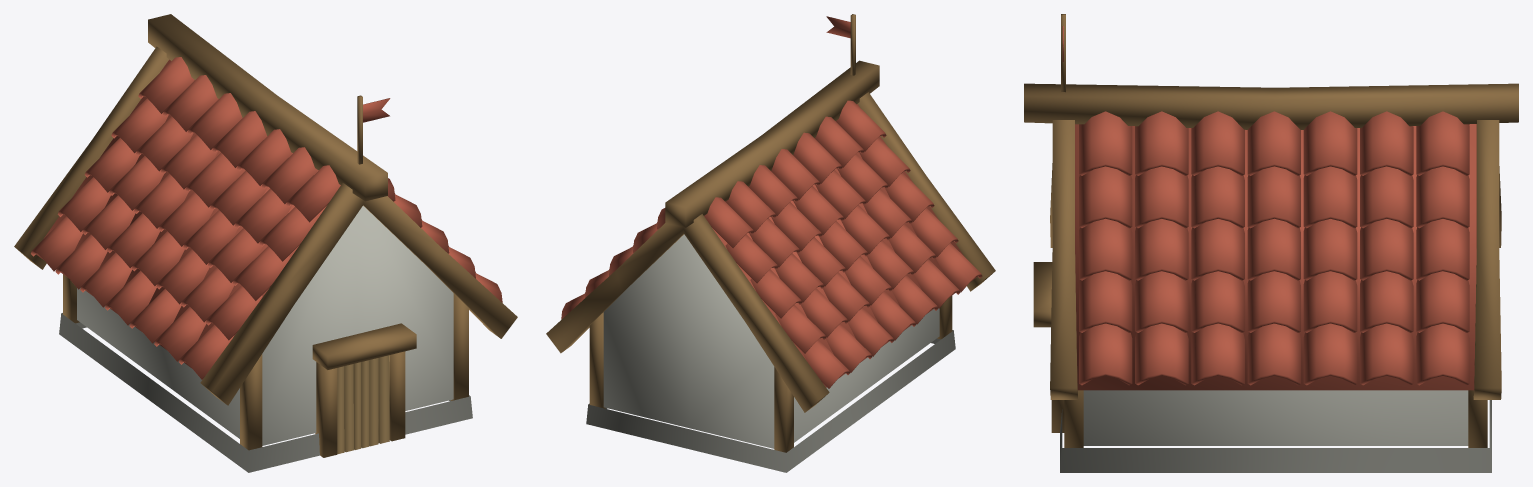
Rendered from casa_roja.glb.
3 renders of one model, left to right at view 1: azimuth 30°, elevation 25°; view 2: azimuth 150°, elevation 25°; view 3: azimuth 270°, elevation 25°, orthographic. The views are drawn at different scales.
Parts seen in each view (by area): view 1: Houses_SecondAge_1_Level2; view 2: Houses_SecondAge_1_Level2; view 3: Houses_SecondAge_1_Level2.
Part boxes in pixels (x1,y1,x2,y2): Houses_SecondAge_1_Level2: [14, 14, 517, 472]; Houses_SecondAge_1_Level2: [546, 14, 995, 472]; Houses_SecondAge_1_Level2: [1024, 14, 1518, 472].
Size of the model in its own units: 3.68 by 3.91 by 4.42.
